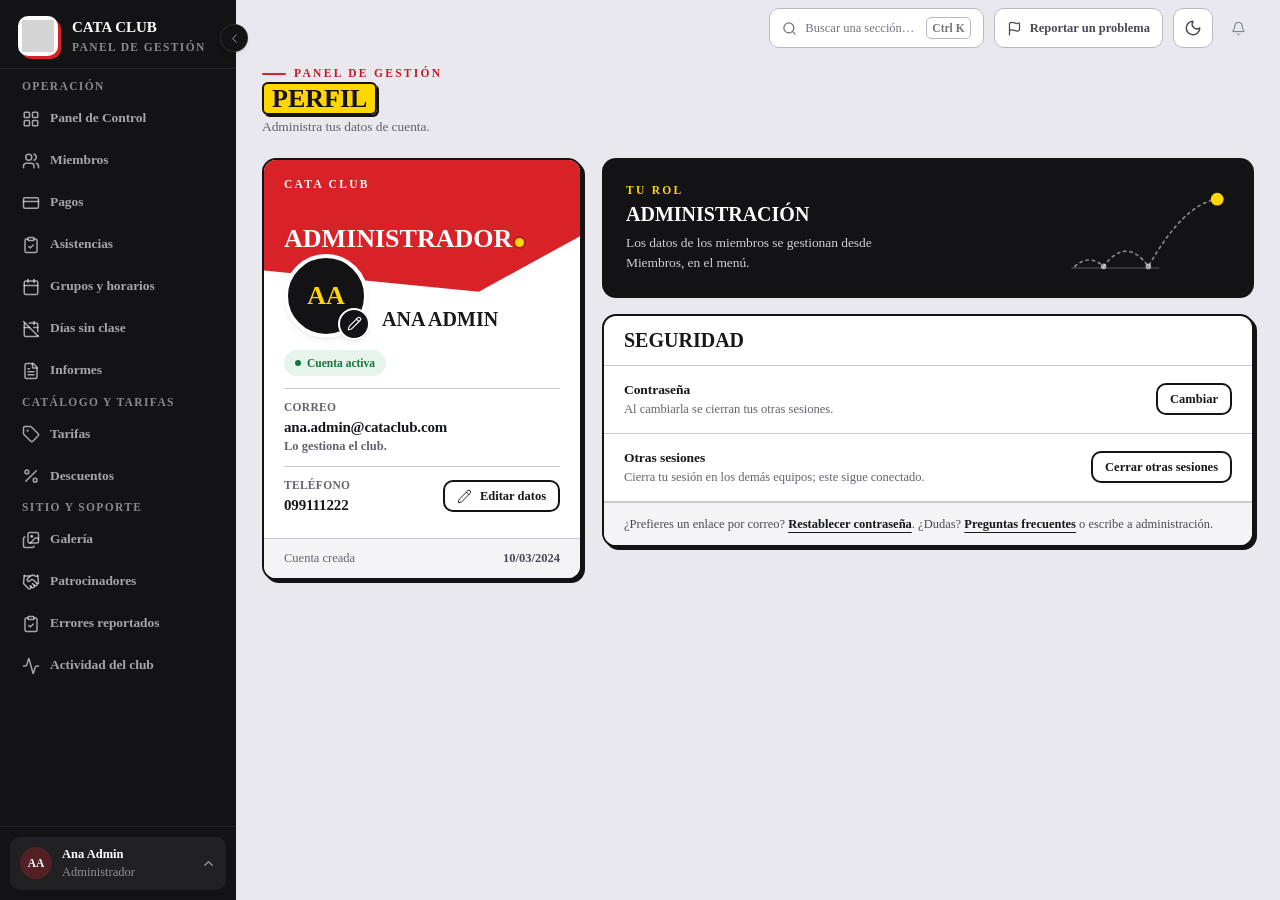
Test: ProfilePage — inline teléfono edit (correo is read-only) › surfaces an error and reverts the teléfono when the save fails
Click the button "Editar datos".
click(501, 496)  # box [443,480,560,512]
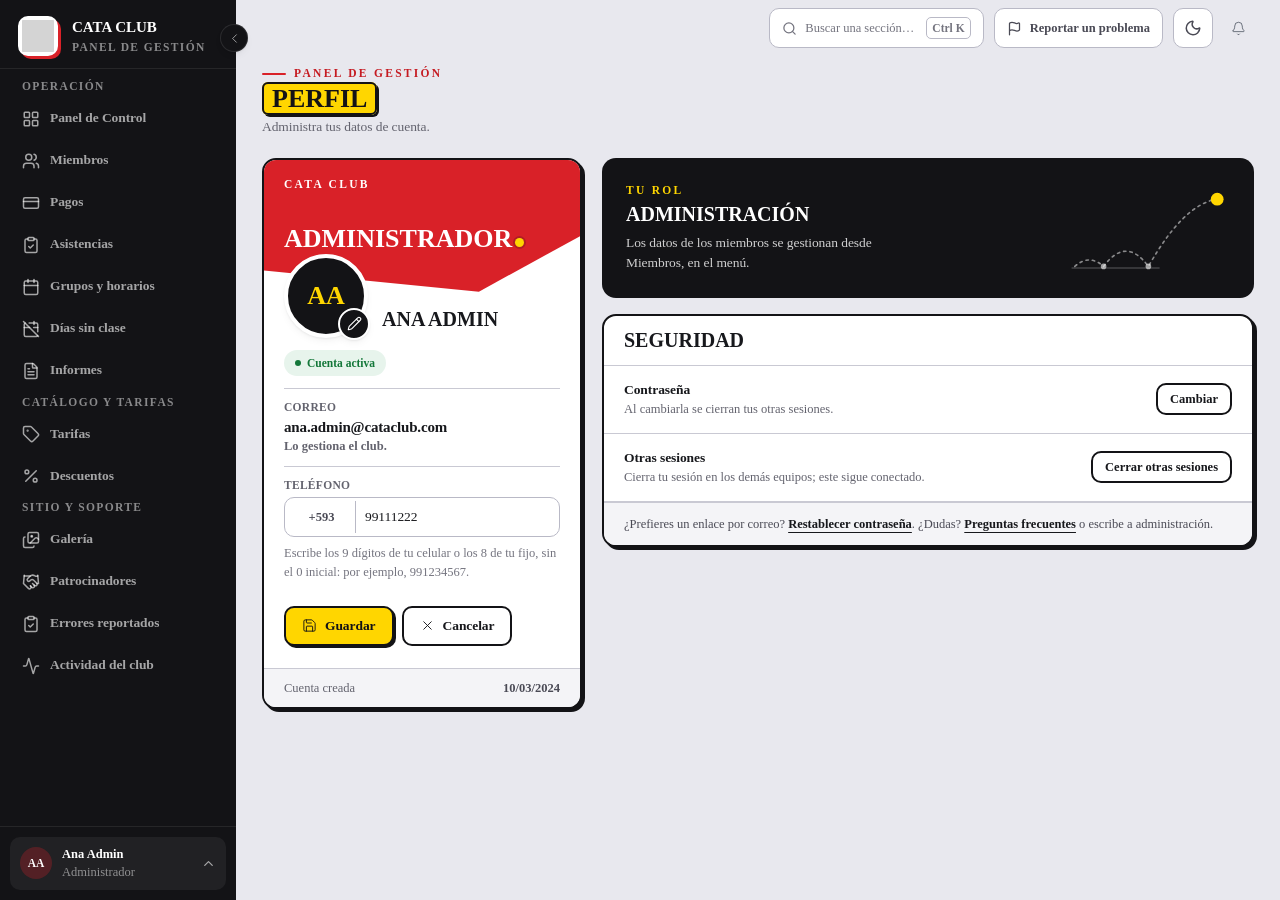
Replace the text in the field named "teléfono" with "0991234567" at (422, 517), box [284,497,560,537]
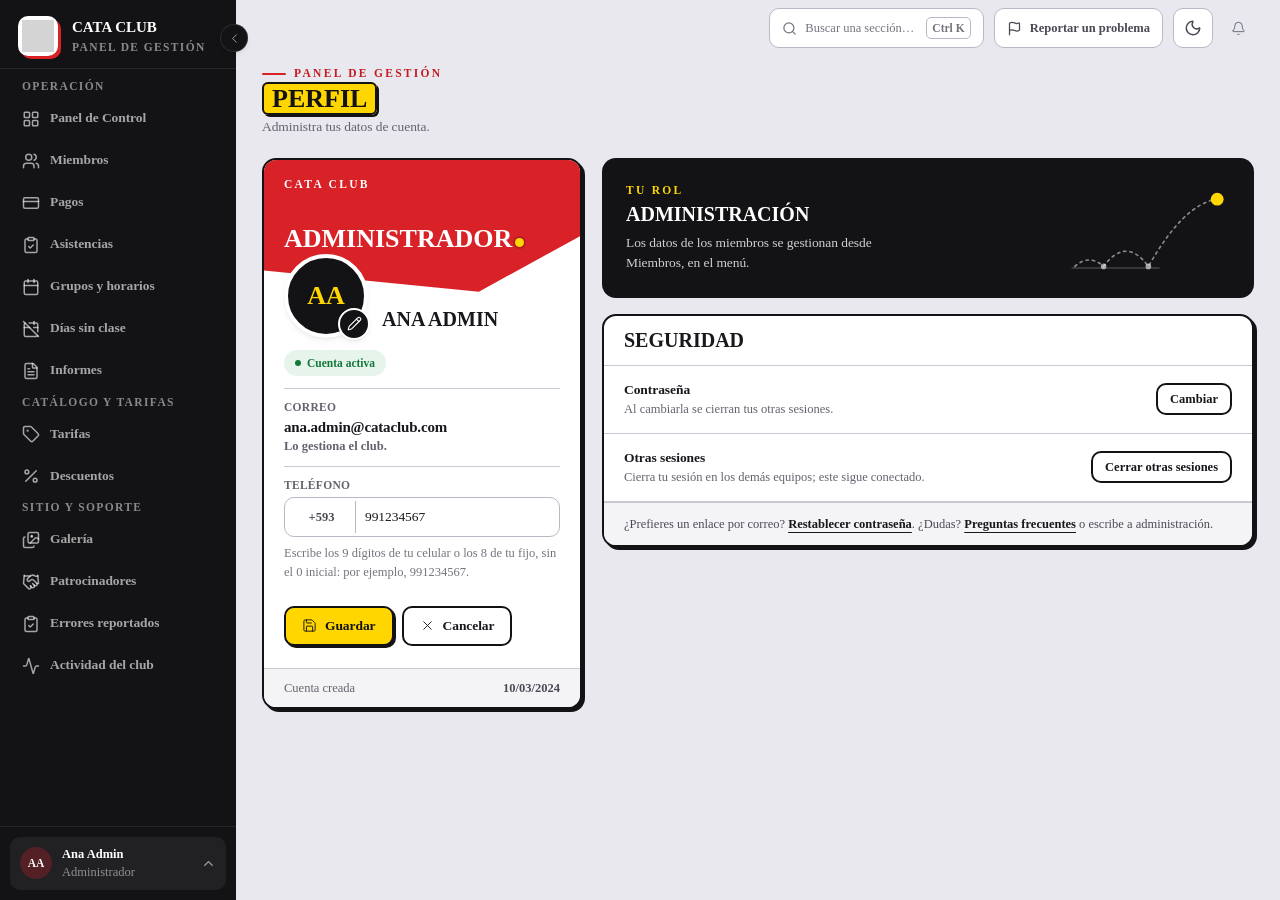
Click the button "Guardar".
click(339, 626)  # box [284,606,394,646]
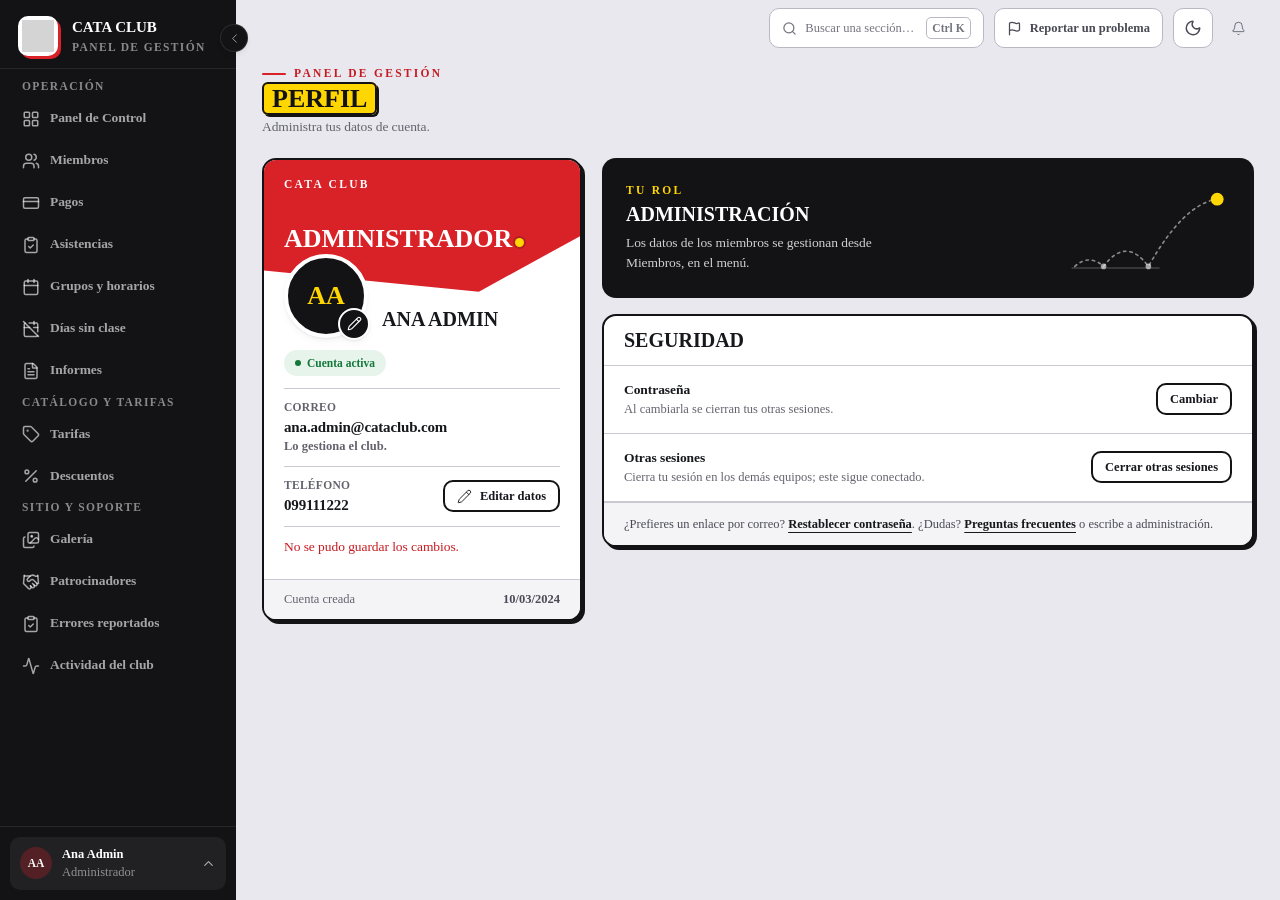
Expected: the message reads "No se pudo guardar los cambios.", [284,539,459,554]
Expected: the text "099111222" is shown, [284,495,350,516]
